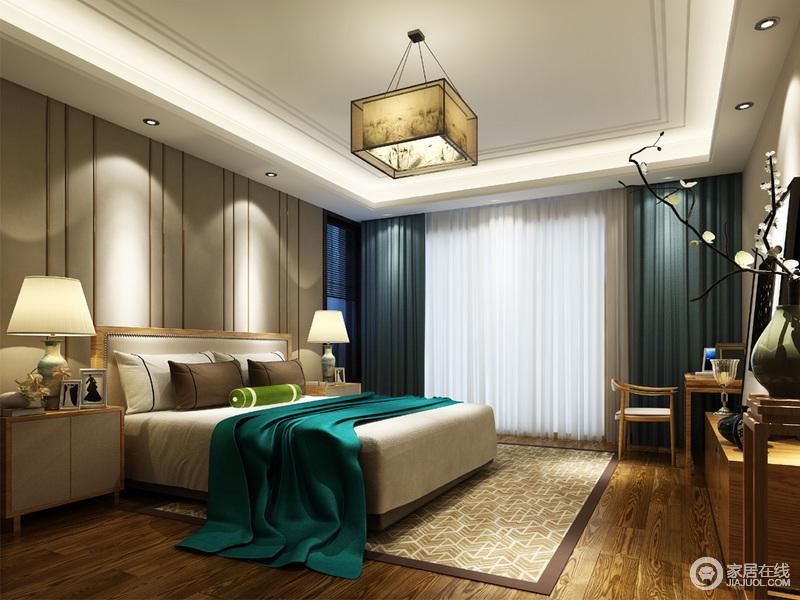床: (117, 384, 492, 554)
枕头: (117, 346, 313, 414)
灯: (341, 31, 483, 183), (5, 277, 94, 414), (305, 306, 353, 382), (756, 20, 781, 35), (739, 102, 761, 116), (139, 117, 160, 131), (262, 169, 282, 183)
